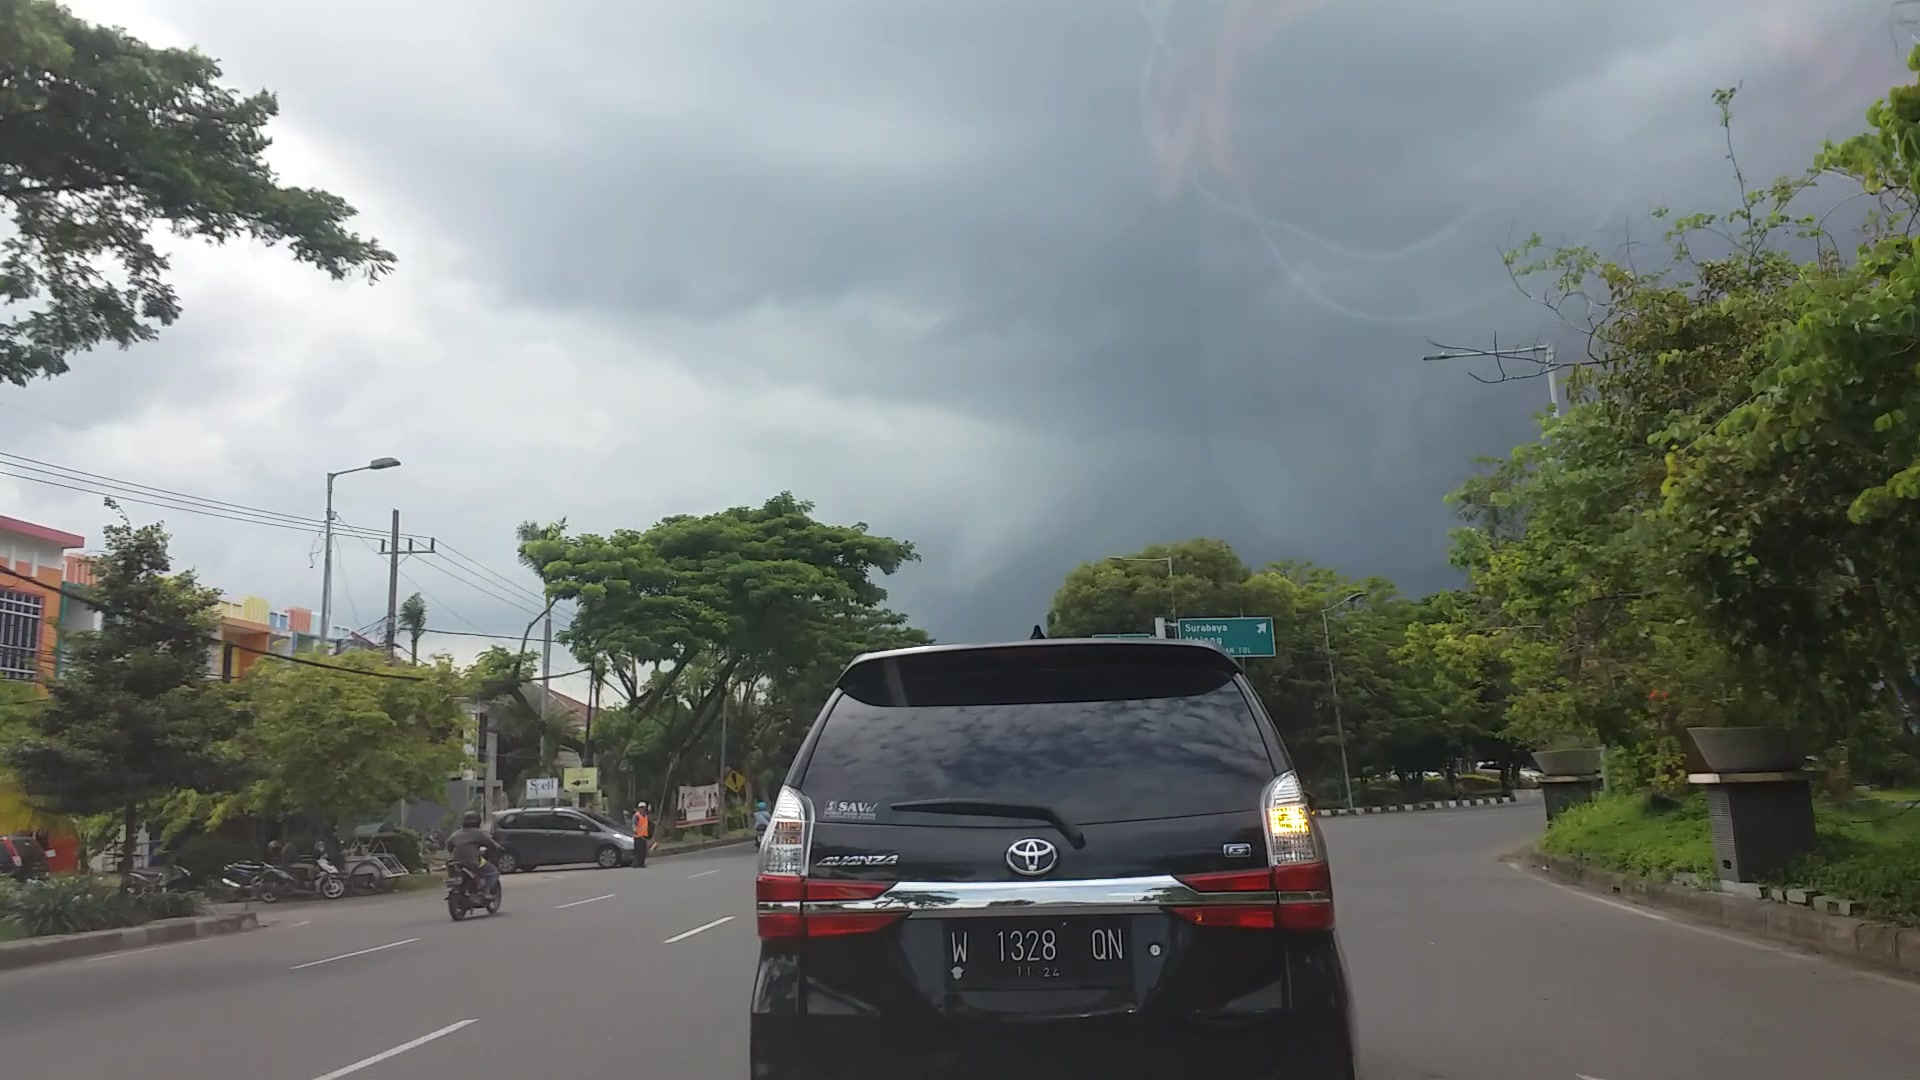plate_positive: (945, 916, 1133, 992)
